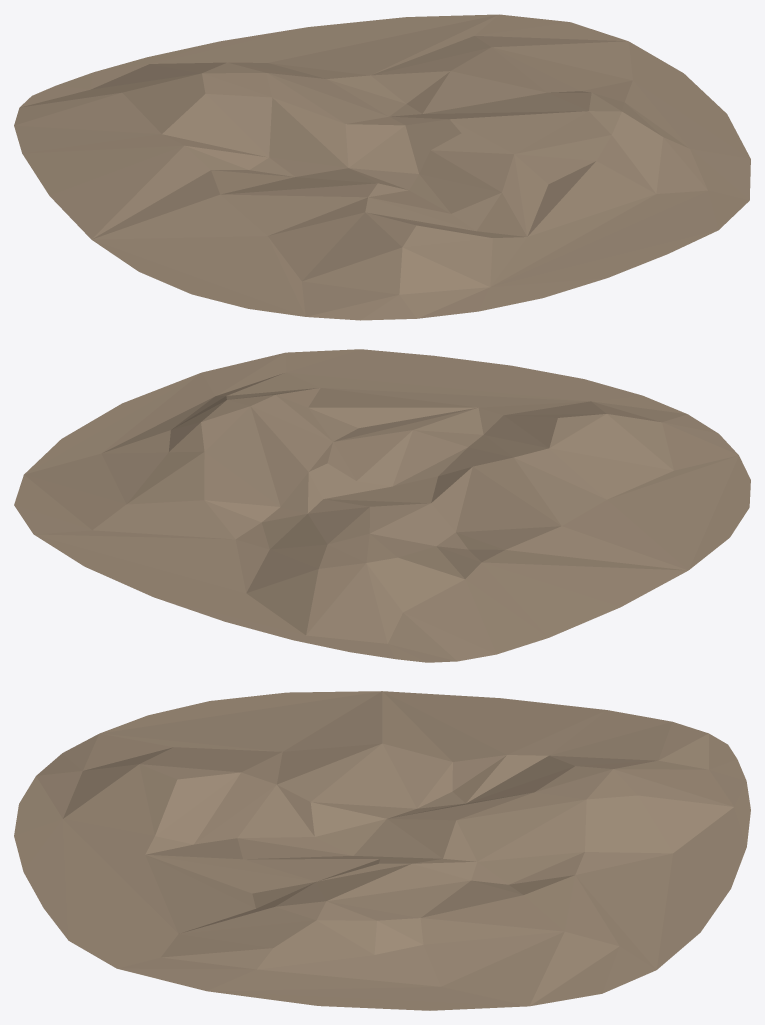
File: SM_Env_GroundMound_02.FBX
3 views of the same model, one above another, from view 1: azimuth 30°, elevation 25°; view 2: azimuth 150°, elevation 25°; view 3: azimuth 270°, elevation 25° (orthographic). The views are drawn at different scales.
Visible parts, largest first — view 1: SM_Env_GroundMound_02; view 2: SM_Env_GroundMound_02; view 3: SM_Env_GroundMound_02.
Boxes of the visible parts, bbox=[...] form: SM_Env_GroundMound_02: bbox=[14, 14, 750, 320]; SM_Env_GroundMound_02: bbox=[14, 349, 750, 662]; SM_Env_GroundMound_02: bbox=[14, 691, 750, 1010].
Size of what is drawn, in the model's own units: 840 by 818 by 47.78.
